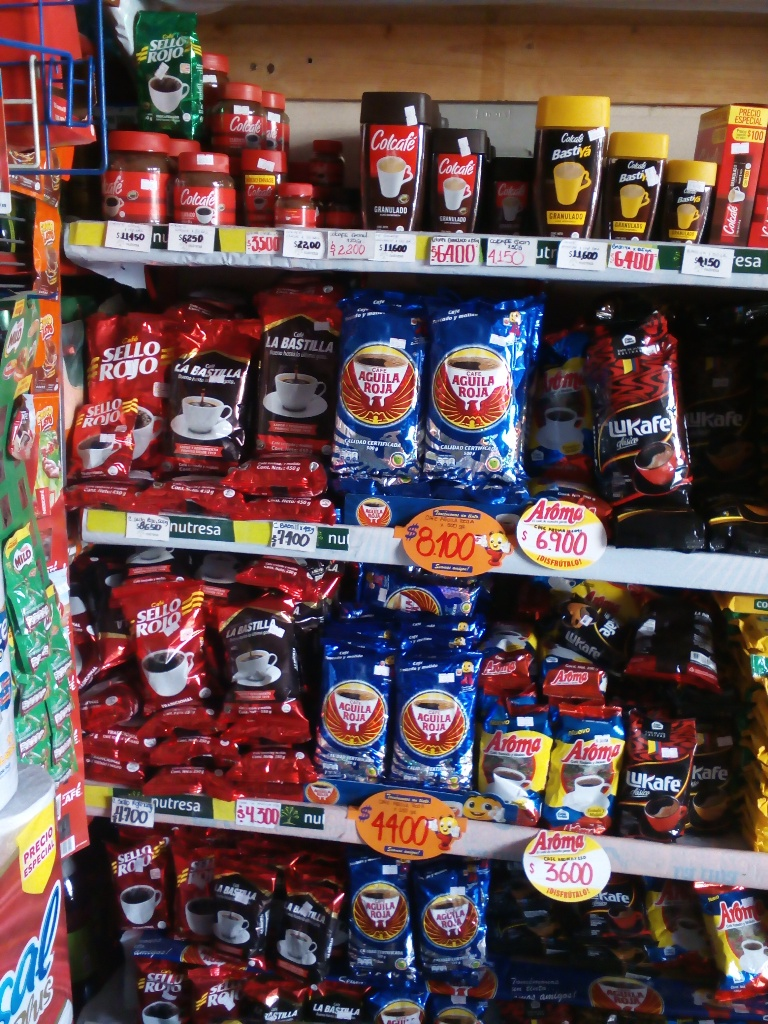COL0170103SOB02000: (28, 187, 69, 299)
